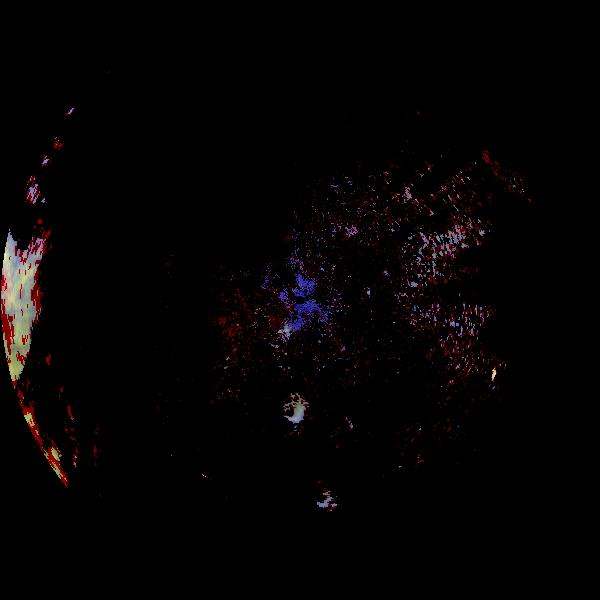roost: (282, 402, 306, 426), (313, 490, 334, 511)
